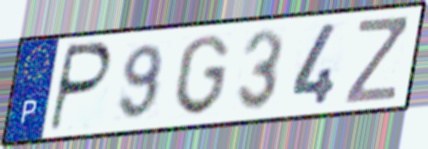3: (235, 27, 287, 114)
4: (289, 20, 340, 108)
9: (114, 40, 170, 121)
G: (171, 32, 232, 118)
P: (46, 40, 115, 134)
Z: (342, 15, 410, 107)
